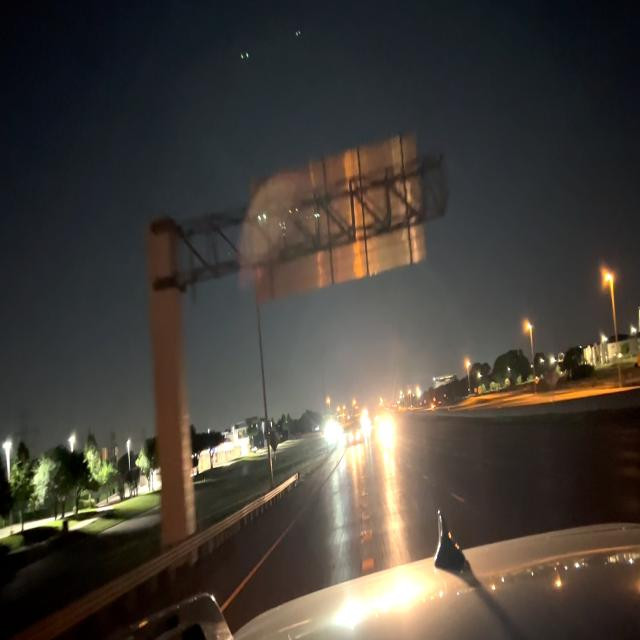back-of-sign: (250, 132, 428, 301)
